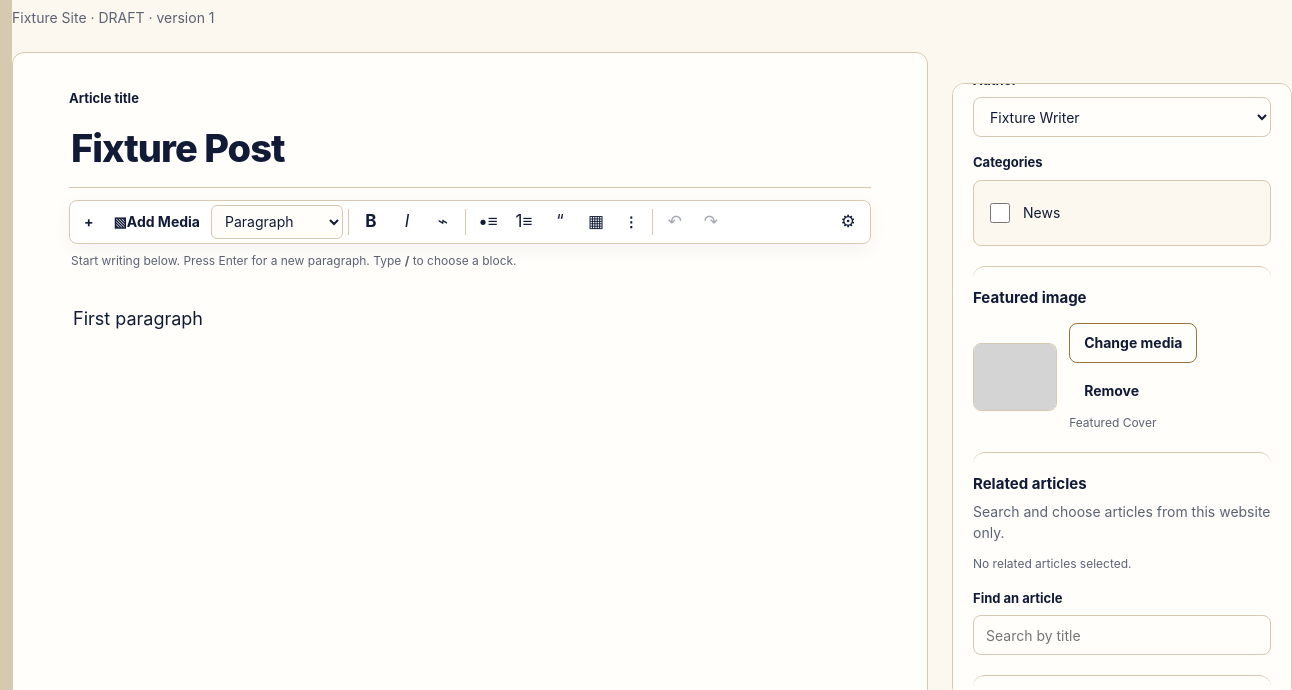
Test case: Featured Image loads by site media identity and can be removed without exposing an ID
(page scrolled)
Expected: the element named "Editor toolbar" is shown, [69, 200, 871, 244]
Expected: the element "Featured image" is shown, [973, 266, 1271, 432]
Click the button "Remove" at {"x": 1112, "y": 390}, box [1069, 370, 1154, 410]
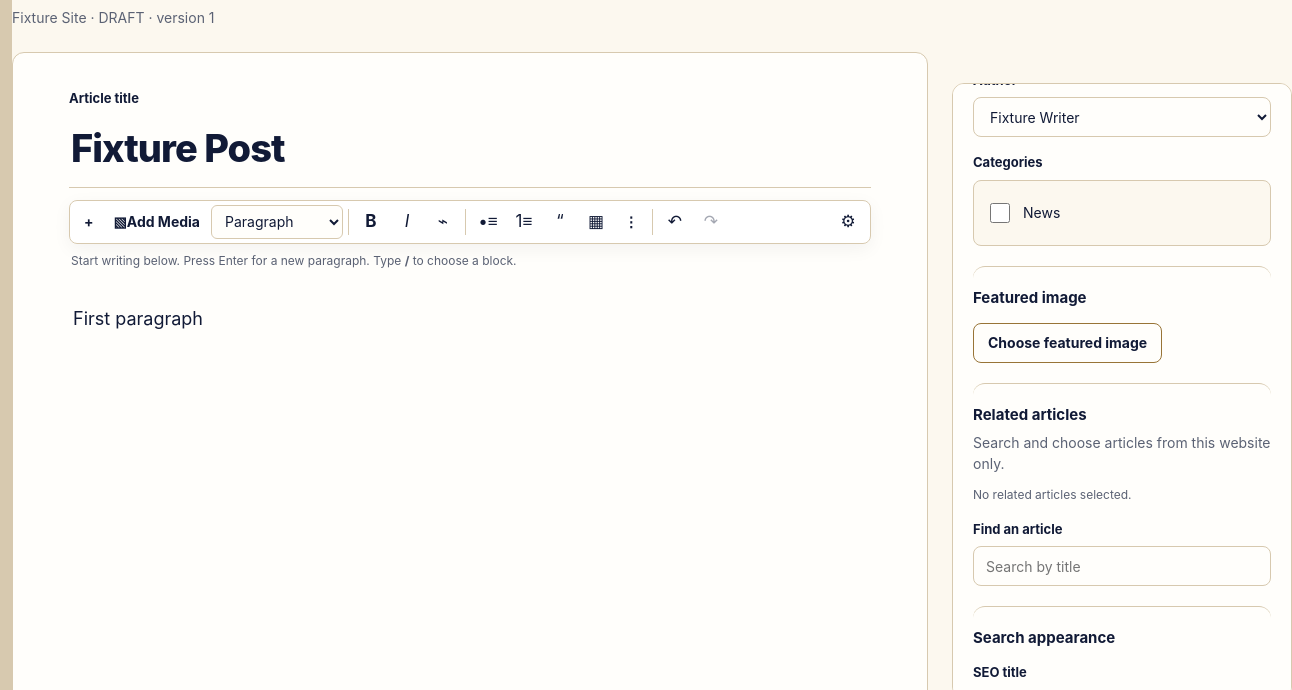
Now the button "Choose featured image" is shown, box [973, 322, 1162, 362]
